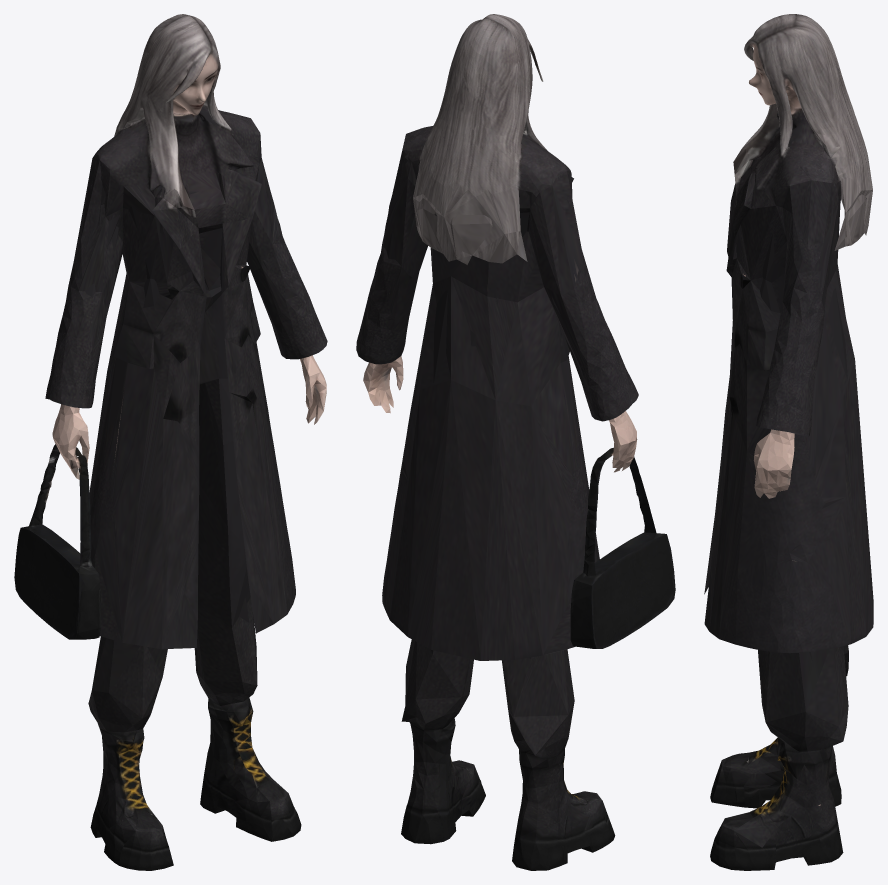
The model's file is dasha_psx_working.glb.
3 renders of one model, left to right at view 1: azimuth 30°, elevation 25°; view 2: azimuth 150°, elevation 25°; view 3: azimuth 270°, elevation 25°, orthographic.
Parts seen in each view (by area): view 1: Dasha_PSX_Working; view 2: Dasha_PSX_Working; view 3: Dasha_PSX_Working.
Part boxes in pixels (x1,y1,x2,y2): Dasha_PSX_Working: (14, 14, 327, 870); Dasha_PSX_Working: (356, 14, 675, 870); Dasha_PSX_Working: (704, 14, 873, 870).
Size of the model in its own units: 0.6851 by 1.9 by 0.3592.
1 material, 1 textured.
